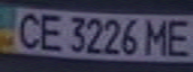2: (84, 15, 106, 55), (103, 16, 124, 56)
3: (63, 14, 87, 54)
6: (121, 17, 145, 56)
C: (9, 9, 45, 51)
E: (33, 10, 66, 52), (160, 16, 193, 57)
M: (142, 16, 175, 56)
